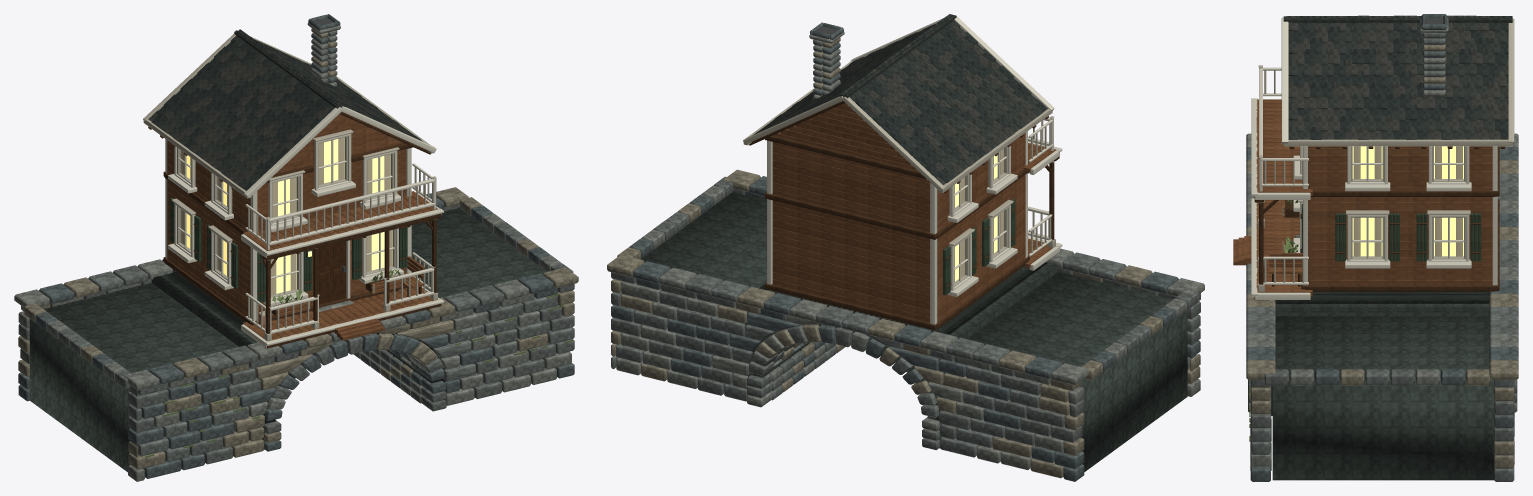
The model's file is cottage.glb.
The picture shows the model from 3 angles, left to right: view 1: azimuth 30°, elevation 25°; view 2: azimuth 150°, elevation 25°; view 3: azimuth 270°, elevation 25°; orthographic projection. The views are drawn at different scales.
Parts seen in each view (by area): view 1: Recessed tunnel mortar, Aged ivory painted trim, Canal granite 2, Canal granite 3, Canal granite 0, Canal granite 1, Canal granite 4, Slate tile 0, Trim shaded endgrain, Slate tile 1, Structural dark oak, Slate tile 2 (+9 smaller); view 2: Recessed tunnel mortar, Canal granite 0, Canal granite 1, Canal granite 3, Canal granite 2, Timber_1, Canal granite 4, Timber_0, Slate tile 0, Aged ivory painted trim, Timber_2, Slate tile 1 (+5 smaller); view 3: Recessed tunnel mortar, Aged ivory painted trim, Slate tile 0, Slate tile 1, Slate tile 2, Timber_3, Timber_0, Timber_1, Trim shaded endgrain, Canal granite 3, Timber_2, Canal granite 2 (+7 smaller).
Part boxes in pixels (x1=…): Recessed tunnel mortar: x1=29, y1=207, x2=546, y2=472; Aged ivory painted trim: x1=165, y1=106, x2=443, y2=348; Canal granite 2: x1=18, y1=14, x2=574, y2=478; Canal granite 3: x1=18, y1=28, x2=578, y2=469; Canal granite 0: x1=18, y1=30, x2=574, y2=464; Canal granite 1: x1=14, y1=23, x2=571, y2=481; Canal granite 4: x1=69, y1=35, x2=574, y2=461; Slate tile 0: x1=151, y1=30, x2=420, y2=190; Trim shaded endgrain: x1=143, y1=33, x2=437, y2=340; Slate tile 1: x1=157, y1=29, x2=422, y2=188; Structural dark oak: x1=148, y1=112, x2=441, y2=348; Slate tile 2: x1=148, y1=38, x2=416, y2=184; Recessed tunnel mortar: x1=640, y1=192, x2=1187, y2=471; Canal granite 0: x1=611, y1=40, x2=1200, y2=450; Canal granite 1: x1=616, y1=32, x2=1204, y2=470; Canal granite 3: x1=607, y1=37, x2=1200, y2=478; Canal granite 2: x1=611, y1=22, x2=1200, y2=481; Timber_1: x1=772, y1=108, x2=1030, y2=317; Canal granite 4: x1=611, y1=45, x2=1200, y2=457; Timber_0: x1=772, y1=115, x2=1055, y2=322; Slate tile 0: x1=756, y1=18, x2=1047, y2=182; Aged ivory painted trim: x1=767, y1=14, x2=1062, y2=324; Timber_2: x1=772, y1=104, x2=1044, y2=317; Slate tile 1: x1=763, y1=14, x2=1043, y2=178; Recessed tunnel mortar: x1=1271, y1=291, x2=1494, y2=480; Aged ivory painted trim: x1=1251, y1=17, x2=1497, y2=299; Slate tile 0: x1=1288, y1=15, x2=1512, y2=139; Slate tile 1: x1=1283, y1=15, x2=1512, y2=139; Slate tile 2: x1=1286, y1=15, x2=1508, y2=139; Timber_3: x1=1238, y1=107, x2=1492, y2=280; Timber_0: x1=1256, y1=99, x2=1492, y2=285; Timber_1: x1=1256, y1=126, x2=1492, y2=295; Trim shaded endgrain: x1=1258, y1=18, x2=1514, y2=291; Canal granite 3: x1=1246, y1=43, x2=1518, y2=468; Timber_2: x1=1233, y1=103, x2=1492, y2=272; Canal granite 2: x1=1246, y1=14, x2=1518, y2=481.
Size of the model in its own units: 14.48 by 10.39 by 7.2.
Materials: 24 (16 with a texture image).
